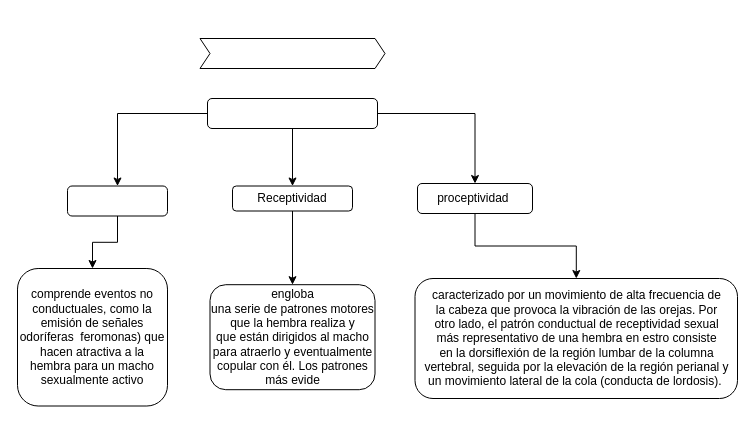
Some shapes in this 755 by 424 pixel diagram are drawn without their labels. Each missing label, with the box of its shape:
atractividad: (66, 185, 168, 216)
conducta sexual en ratas: (199, 38, 385, 68)
conducta sexual femenina: (206, 98, 378, 128)
